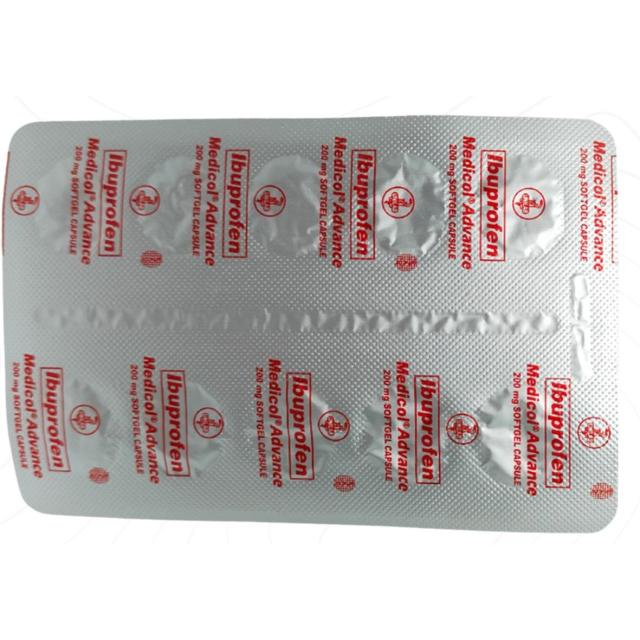blister: (3, 107, 636, 538)
